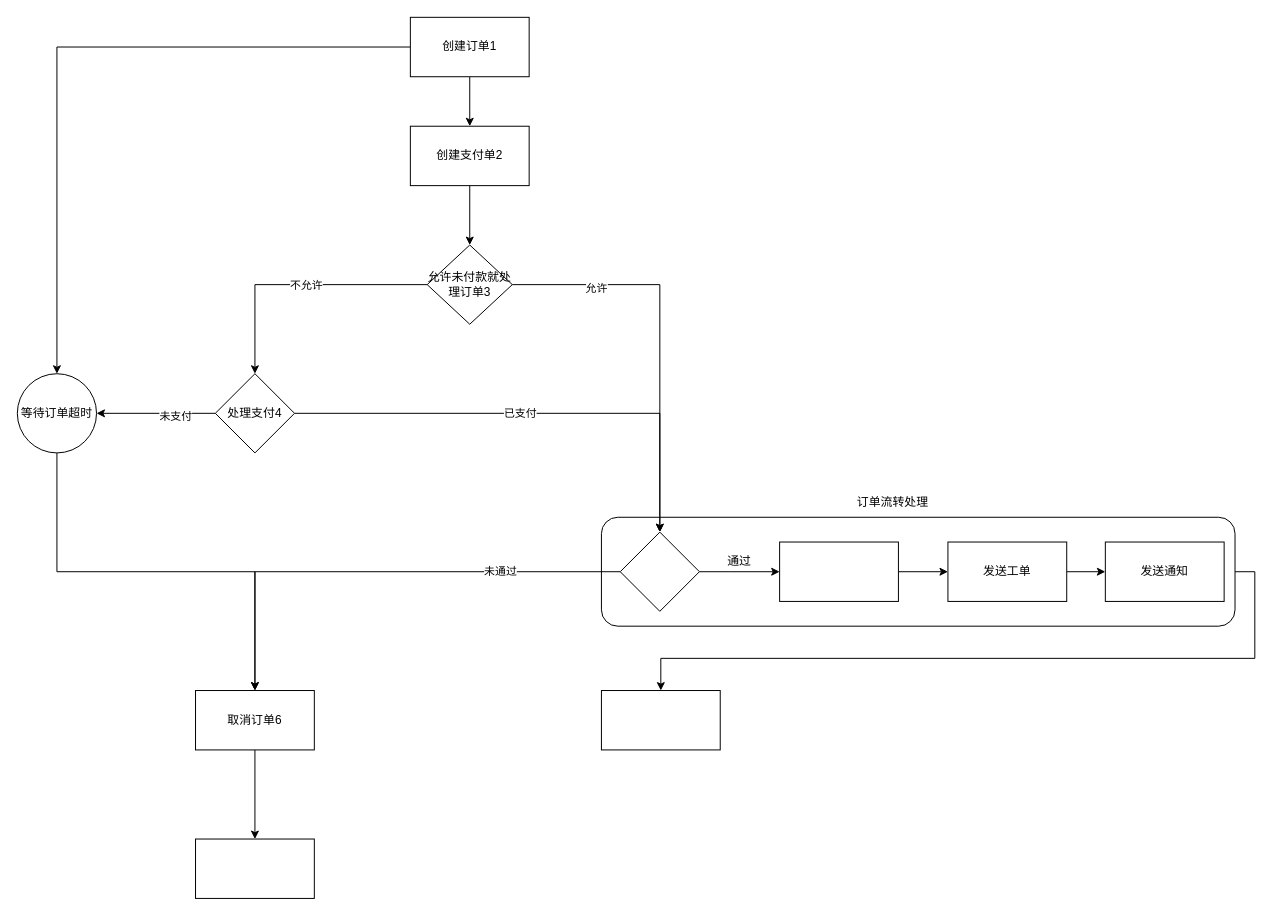
Some shapes in this 1280 by 916 pixel diagram are drawn without their labels. Each missing label, with the centre of its shape:
取消支付单7: the point at 254,868
审批5: the point at 659,571
自动开通: the point at 838,571
订单完成6: the point at 660,720
